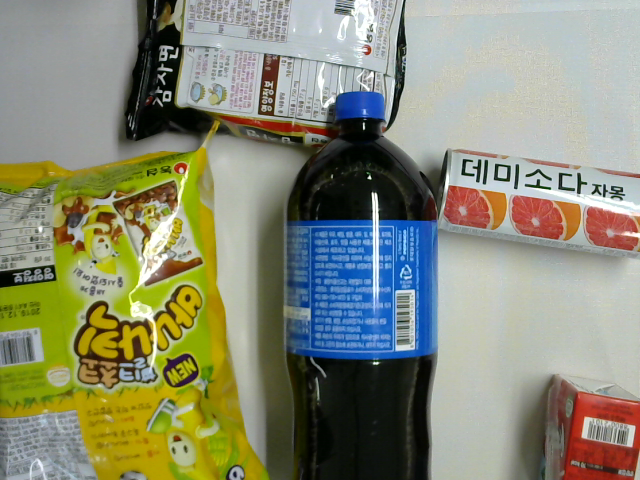Banana_Kick: (1, 113, 277, 479)
Demisoda_Grapefruit_Can_250ml: (433, 144, 640, 261)
Pepsi_Cola_1.5L: (283, 89, 440, 480)
Picnic_Apple: (535, 371, 640, 480)
Potato: (121, 1, 408, 150)
